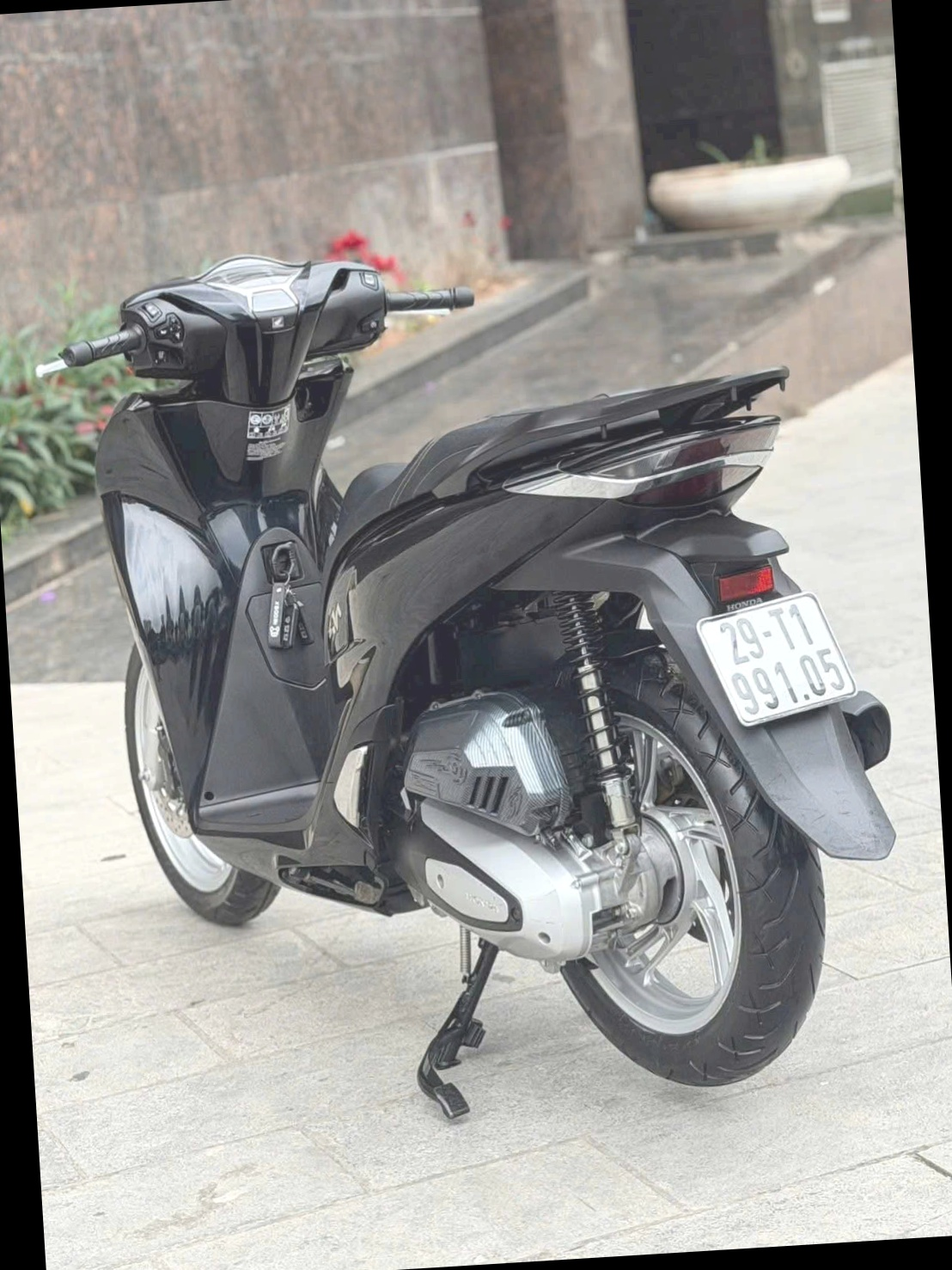Bien-so: (719, 616, 885, 775)
